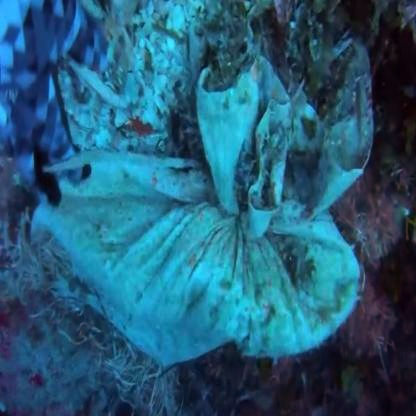plastic: (46, 85, 365, 371)
